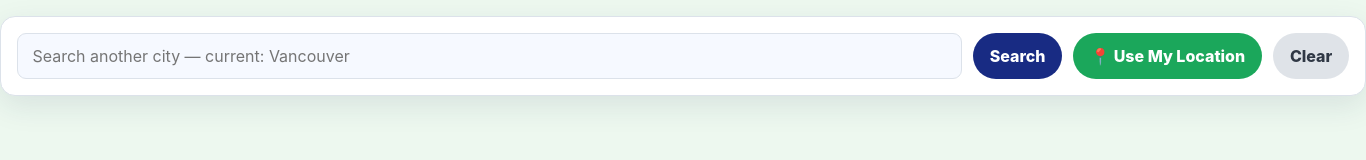
Test: SearchBar › rejects empty search
Click the button "Search" at coordinates (1018, 56), box [973,33,1062,79]
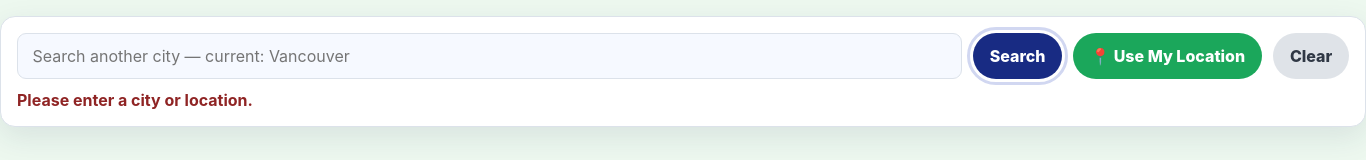
Check: the message shows "Please enter a city", box [17,90,253,110]
